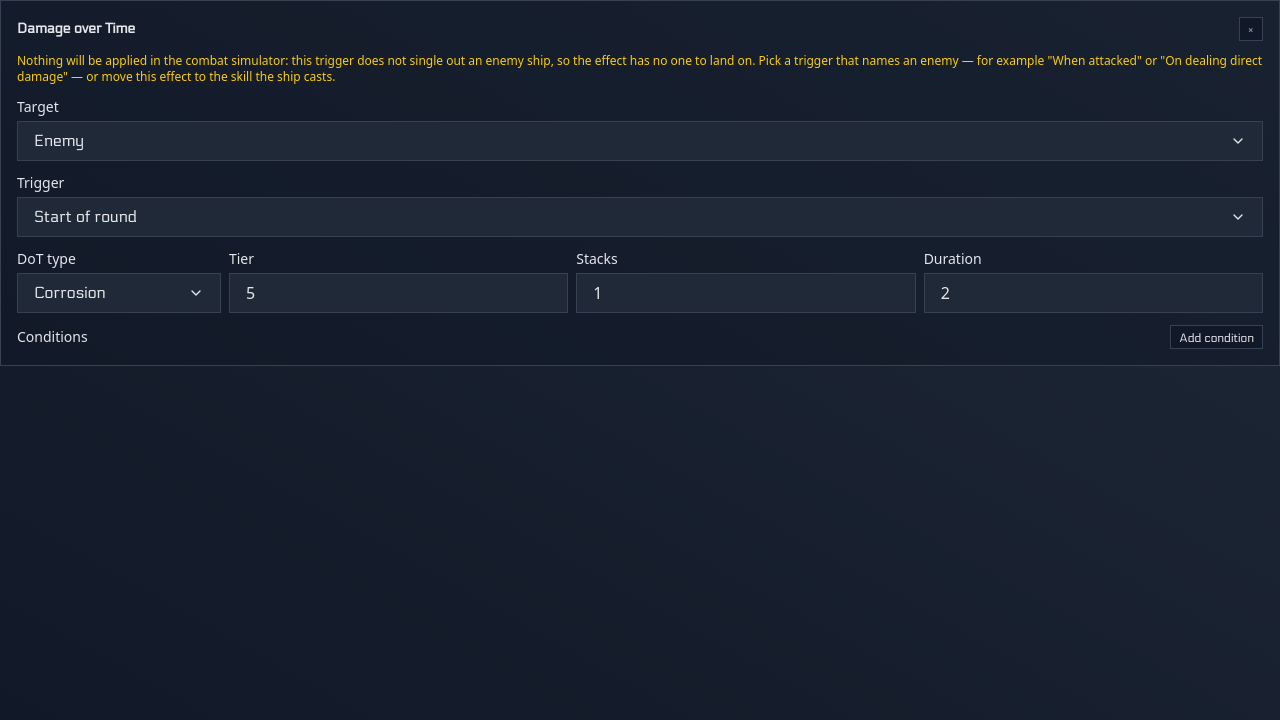
AbilityCard › victimless-infliction warning › WARNS WITHOUT BLOCKING — every Target option stays selectable
The width and height of the screenshot is (1280, 720).
What coordinates should you click on to do the following:
click the label labelled "Target"
I would click on:
 (38, 106)
Its box is [17, 97, 59, 116].
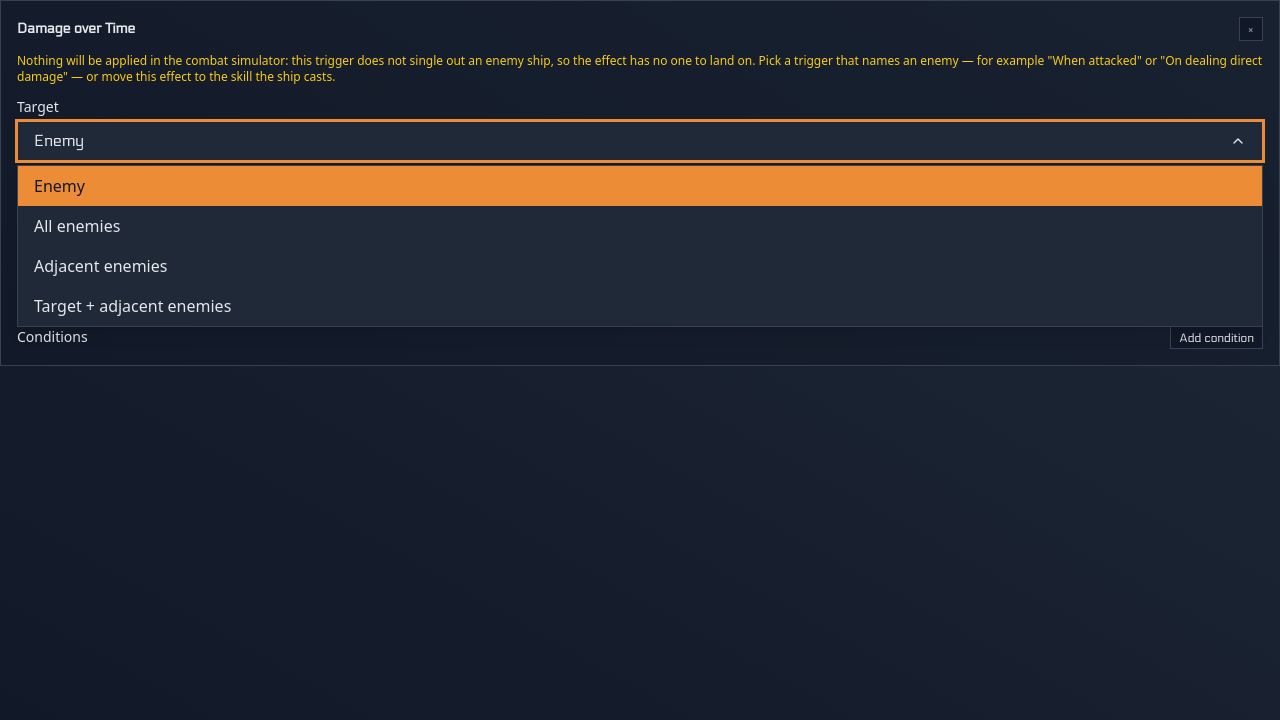
Expected: the text "Enemy" is shown, [17, 52, 1262, 85]
Expected: the option "All enemies" is shown, [34, 215, 120, 237]
Expected: the option "Adjacent enemies" is shown, [34, 255, 167, 277]
